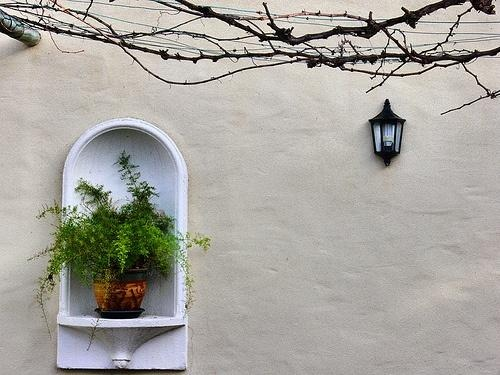pottedplant: (43, 153, 214, 319)
